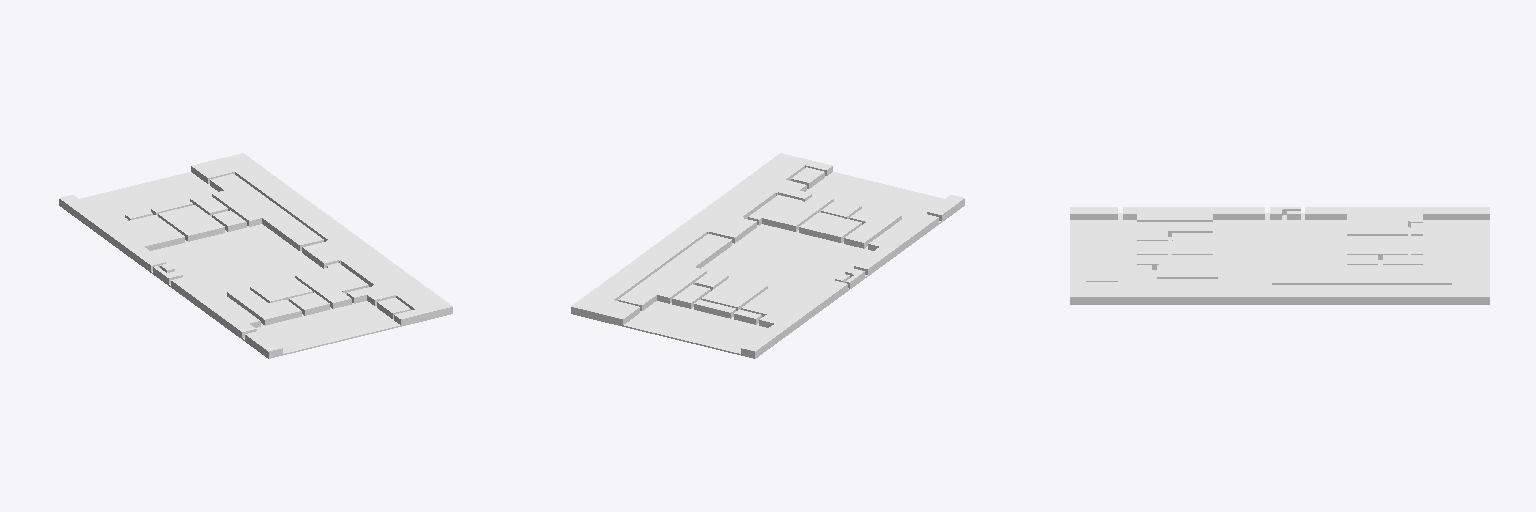
Rendered from GameMenu-0-GameMenu_01.obj.
3 views of the same model, side by side, from view 1: azimuth 30°, elevation 25°; view 2: azimuth 150°, elevation 25°; view 3: azimuth 270°, elevation 25° (orthographic).
Visible parts, largest first — view 1: GameMenu_01; view 2: GameMenu_01; view 3: GameMenu_01.
Boxes of the visible parts, x1,y1,x2,y2 form: GameMenu_01: [59, 153, 452, 358]; GameMenu_01: [571, 153, 964, 358]; GameMenu_01: [1070, 207, 1489, 304].
Size of the model in its own units: 13 by 0.5 by 25.6.